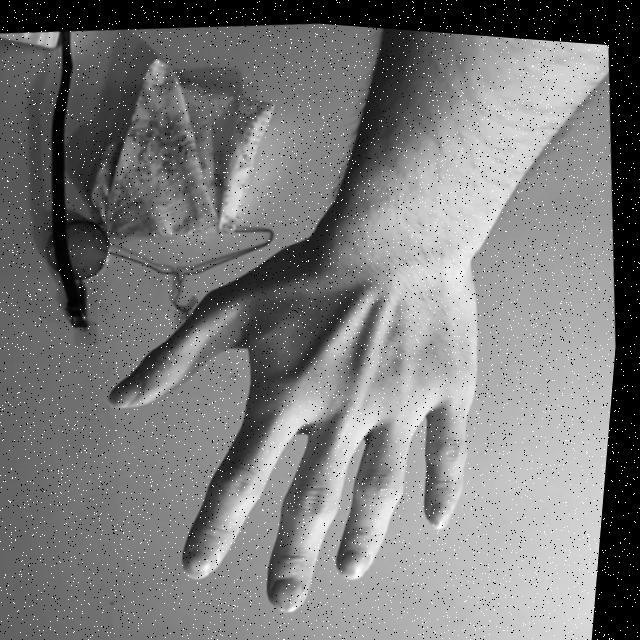no-gloves: (84, 222, 519, 636)
